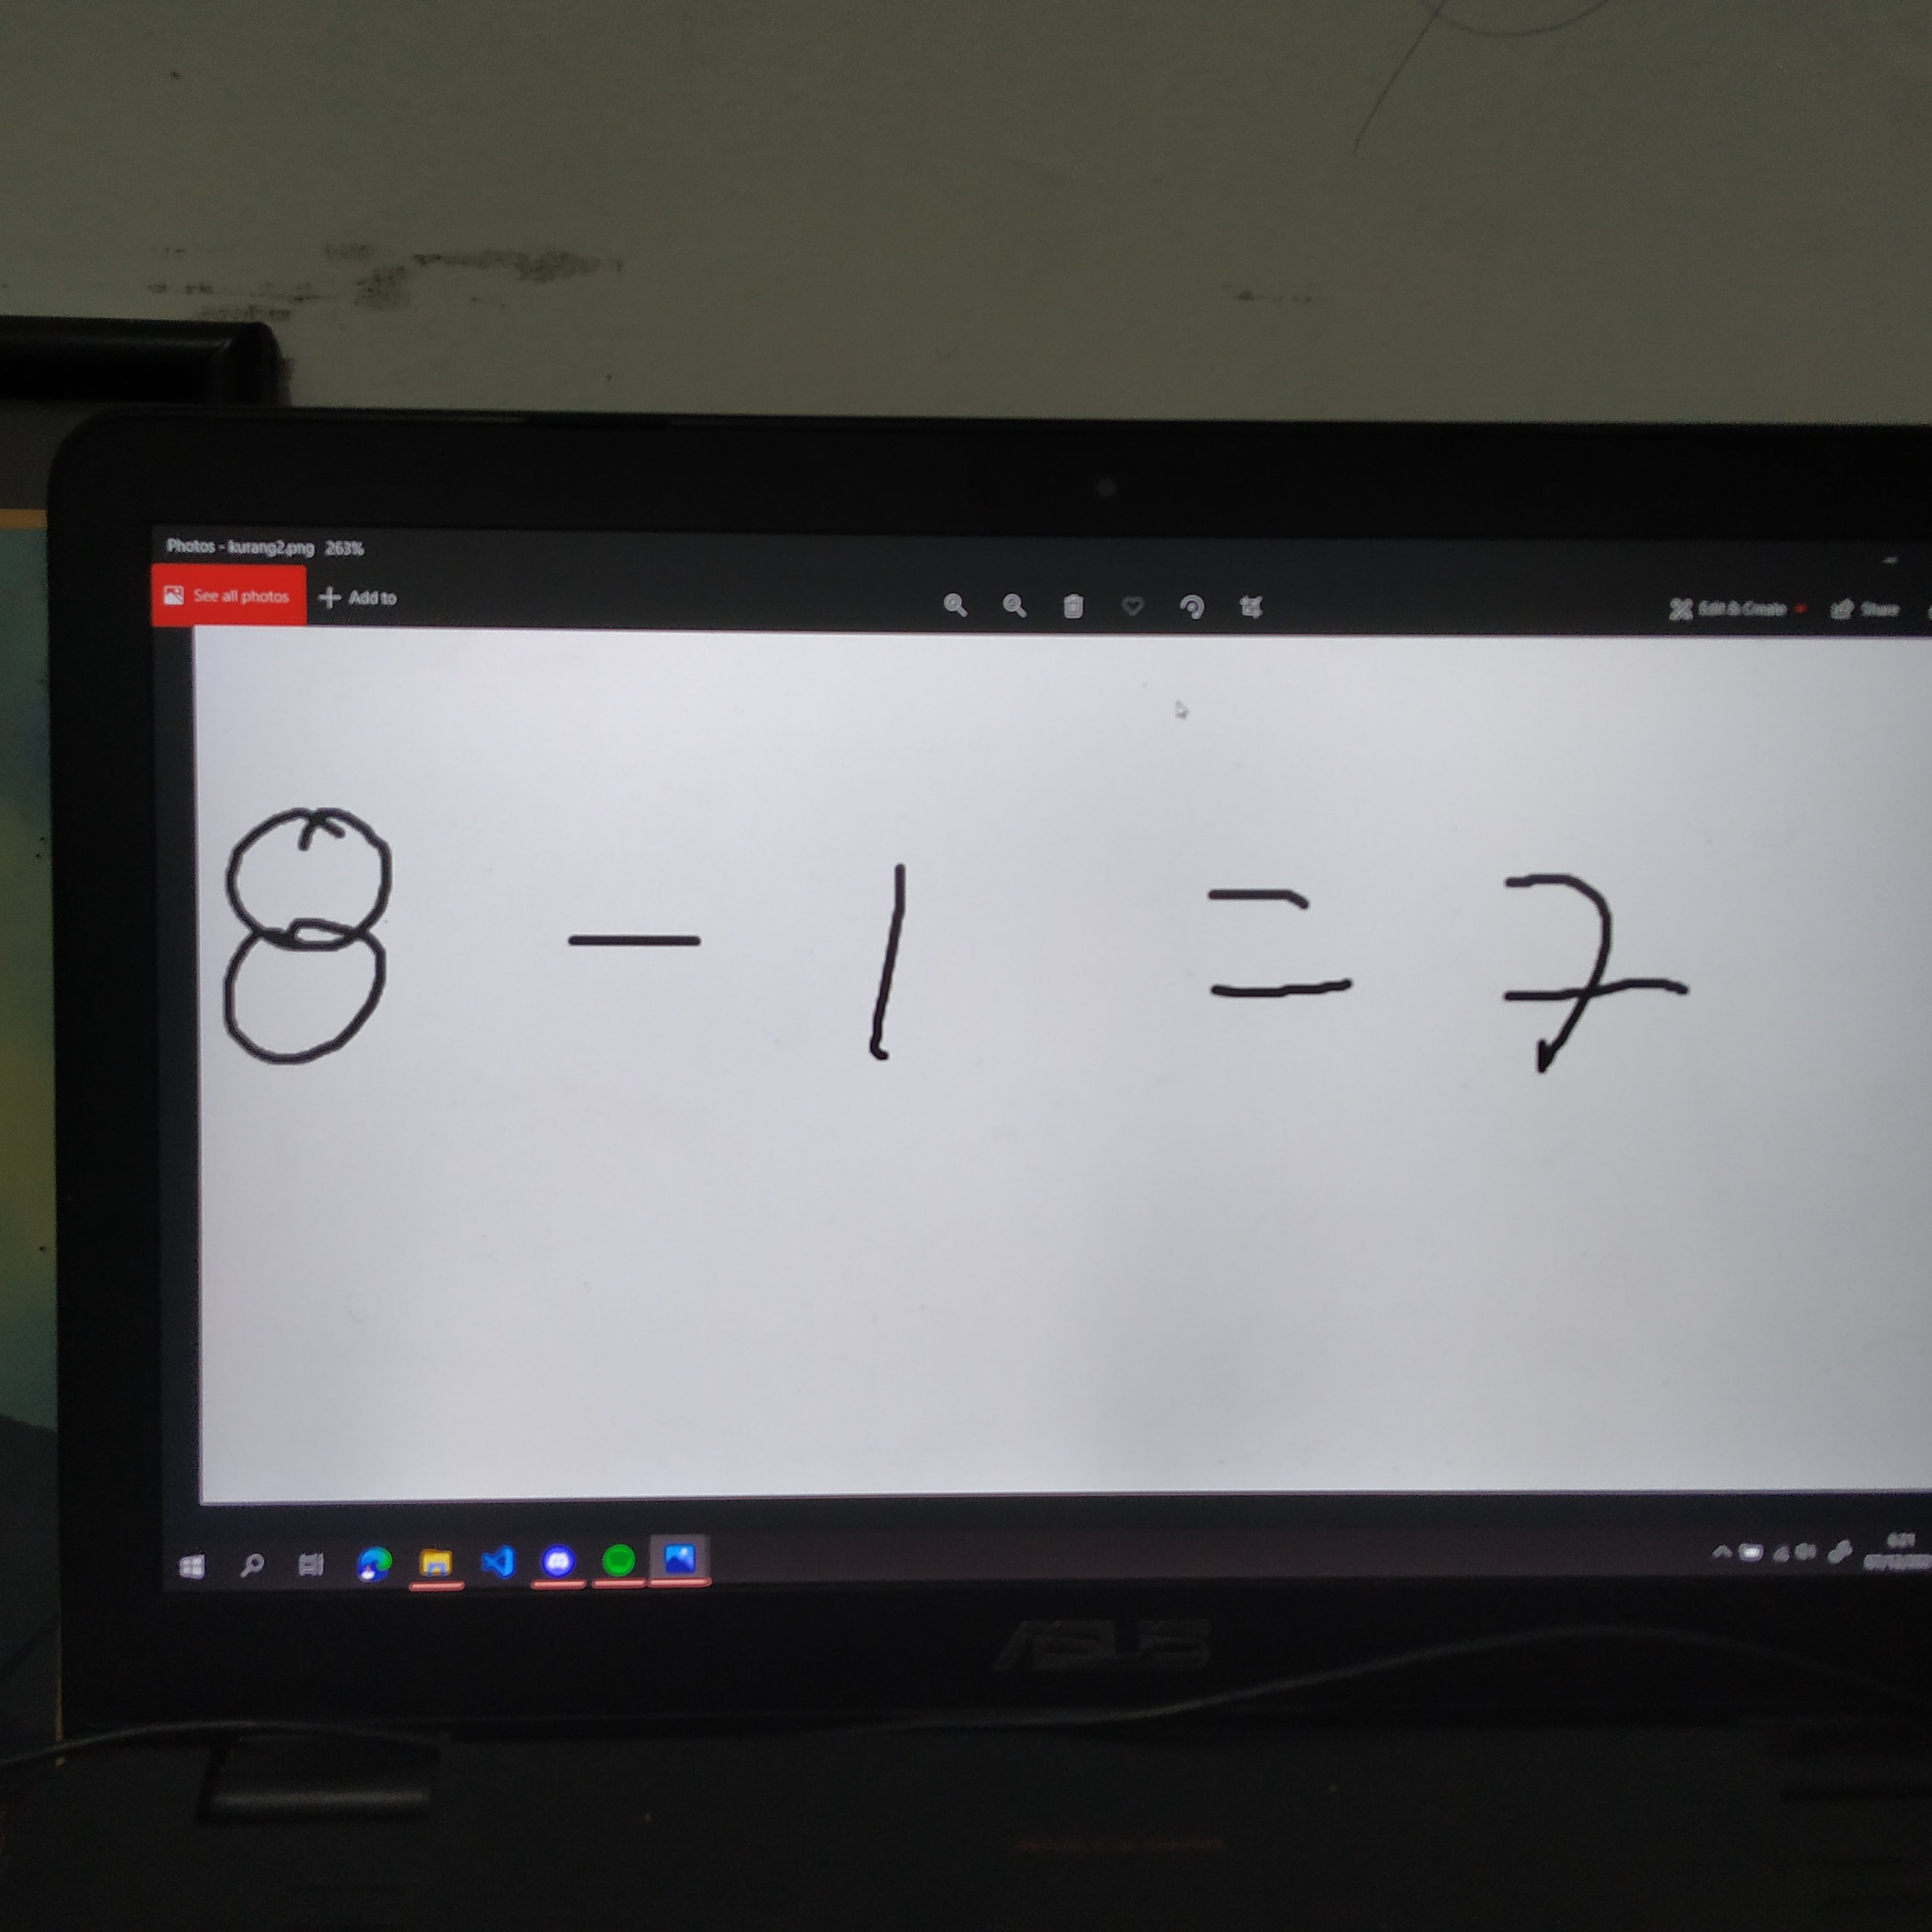equal: (1166, 866, 1384, 1028)
min: (536, 899, 750, 976)
num1: (846, 837, 931, 1090)
num7: (1459, 858, 1743, 1099)
num8: (198, 781, 439, 1082)
